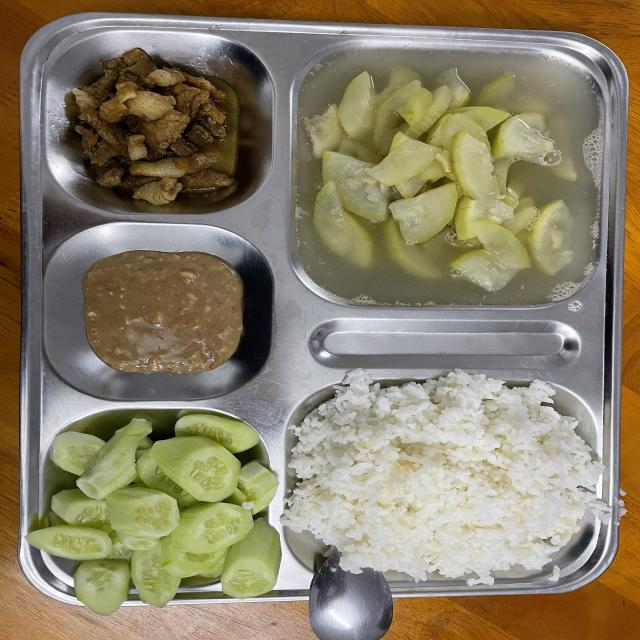com_trang: (318, 391, 582, 566)
thit_kho: (72, 65, 236, 200)
